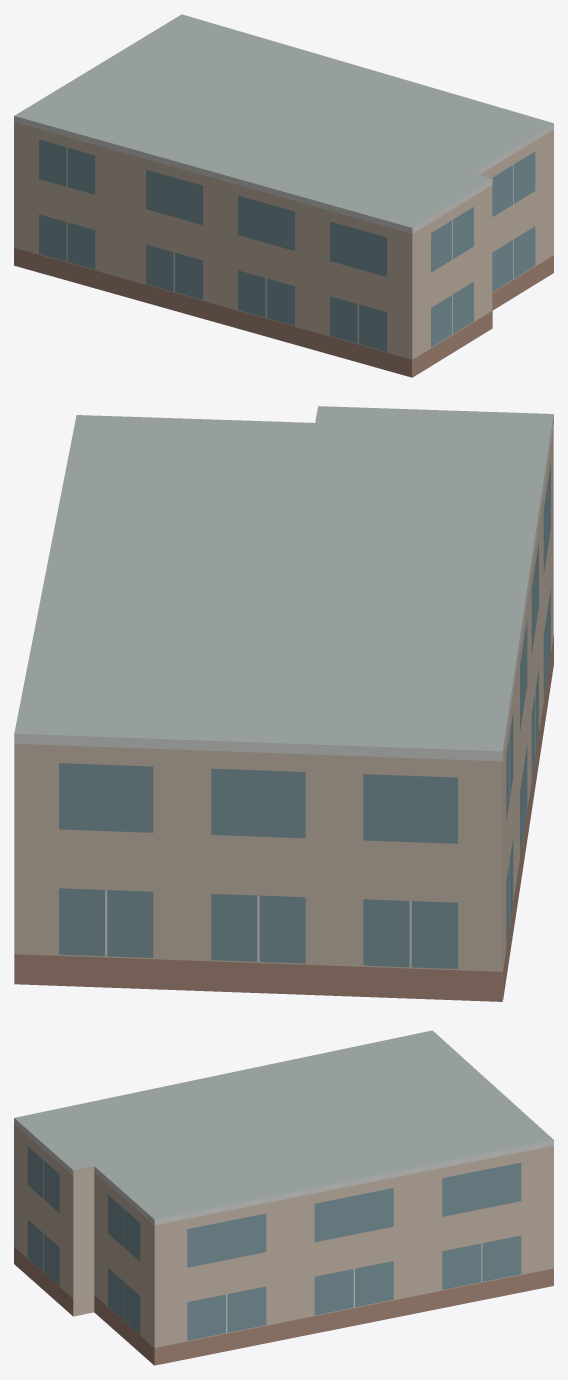
Rendered from survey-upis-32705602.glb.
3 views of the same model, one above another, from view 1: azimuth 30°, elevation 25°; view 2: azimuth 150°, elevation 25°; view 3: azimuth 270°, elevation 25° (orthographic). The views are drawn at different scales.
Parts seen in each view (by area): view 1: survey-upis-32705602.tmp; view 2: survey-upis-32705602.tmp; view 3: survey-upis-32705602.tmp.
Boxes of the visible parts, <box> form: survey-upis-32705602.tmp: <box>14,14,553,377</box>; survey-upis-32705602.tmp: <box>14,406,553,1001</box>; survey-upis-32705602.tmp: <box>14,1030,553,1365</box>.
Size of the model in its own units: 16.95 by 6.1 by 20.43.
